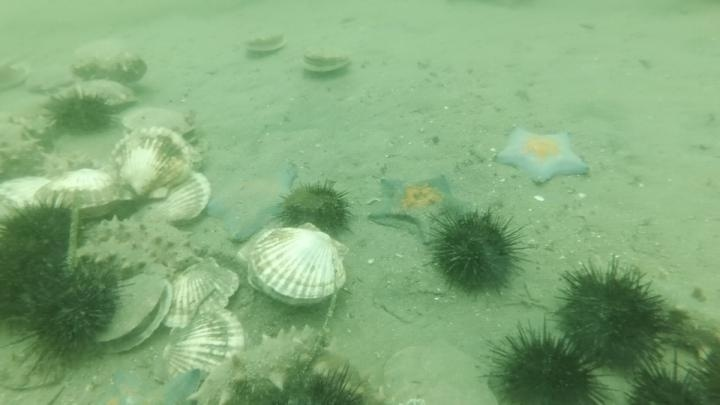echinus: (5, 253, 128, 377), (551, 257, 676, 379), (479, 320, 612, 405), (1, 193, 84, 325), (426, 205, 530, 299), (622, 352, 716, 404), (275, 178, 354, 239), (282, 361, 376, 404), (43, 87, 117, 139), (682, 340, 720, 405)
holothurian: (190, 323, 352, 404), (74, 215, 202, 280), (647, 268, 720, 359), (68, 45, 151, 87), (1, 113, 50, 184), (33, 146, 98, 183)
scallop: (239, 223, 352, 312), (374, 336, 498, 405), (154, 303, 247, 390), (111, 122, 206, 203), (93, 268, 175, 356), (156, 258, 243, 335), (36, 166, 129, 217), (150, 167, 214, 229), (119, 103, 200, 147), (1, 173, 63, 225), (13, 52, 82, 98), (69, 77, 142, 115), (300, 43, 354, 79), (242, 27, 290, 60), (1, 57, 32, 96)
starfish: (204, 158, 300, 245), (366, 170, 470, 241), (493, 124, 591, 187), (87, 362, 205, 404), (141, 365, 207, 404)
